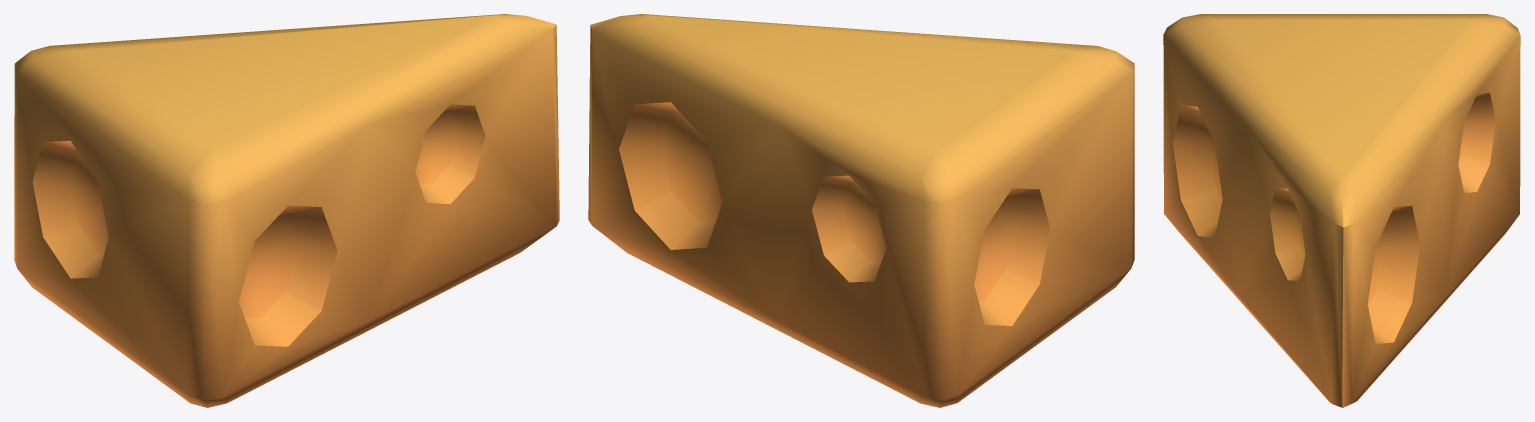
Rendered from cheese.glb.
The picture shows the model from 3 angles, left to right: view 1: azimuth 30°, elevation 25°; view 2: azimuth 150°, elevation 25°; view 3: azimuth 270°, elevation 25°; orthographic projection. The views are drawn at different scales.
Visible parts, largest first — view 1: food_ingredient_cheese; view 2: food_ingredient_cheese; view 3: food_ingredient_cheese.
Boxes of the visible parts, box(x1,y1,x2,y2) form: food_ingredient_cheese: box(14, 14, 559, 407); food_ingredient_cheese: box(588, 14, 1134, 407); food_ingredient_cheese: box(1163, 14, 1520, 407).
Size of the model in its own units: 0.9766 by 0.5 by 0.722.
1 material, 1 textured.
